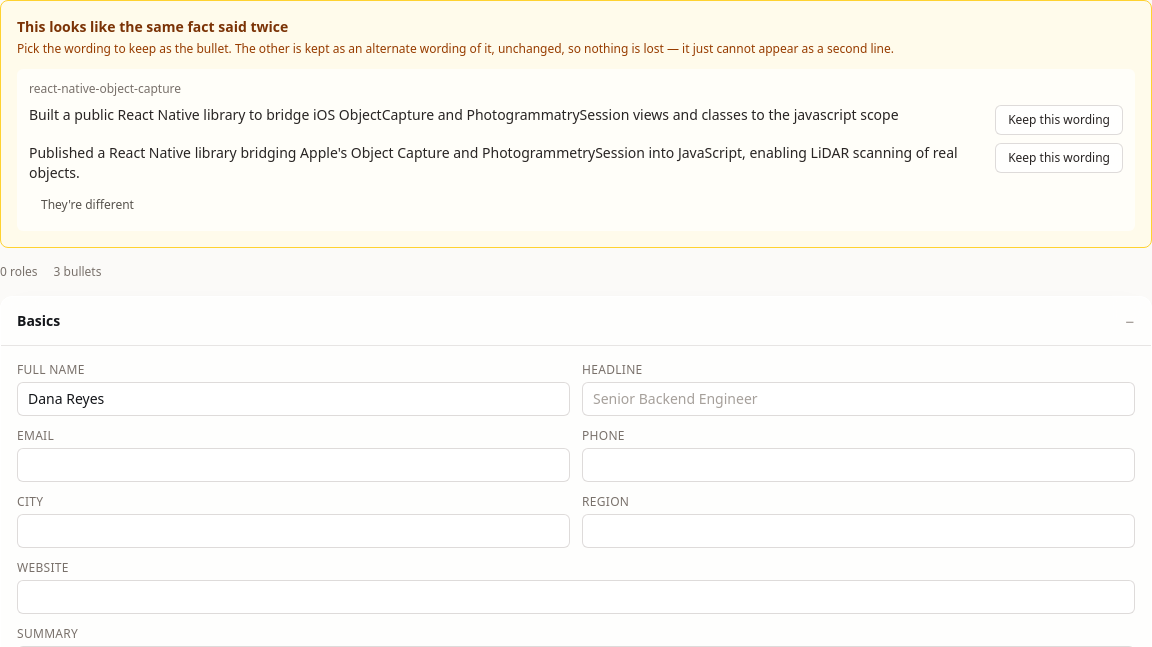
Test: a suspected repeat from the import › leaves both alone when told they are different
This screenshot has width=1152, height=647.
Click the button "They're different" at (87, 205), box [29,191,146,219]
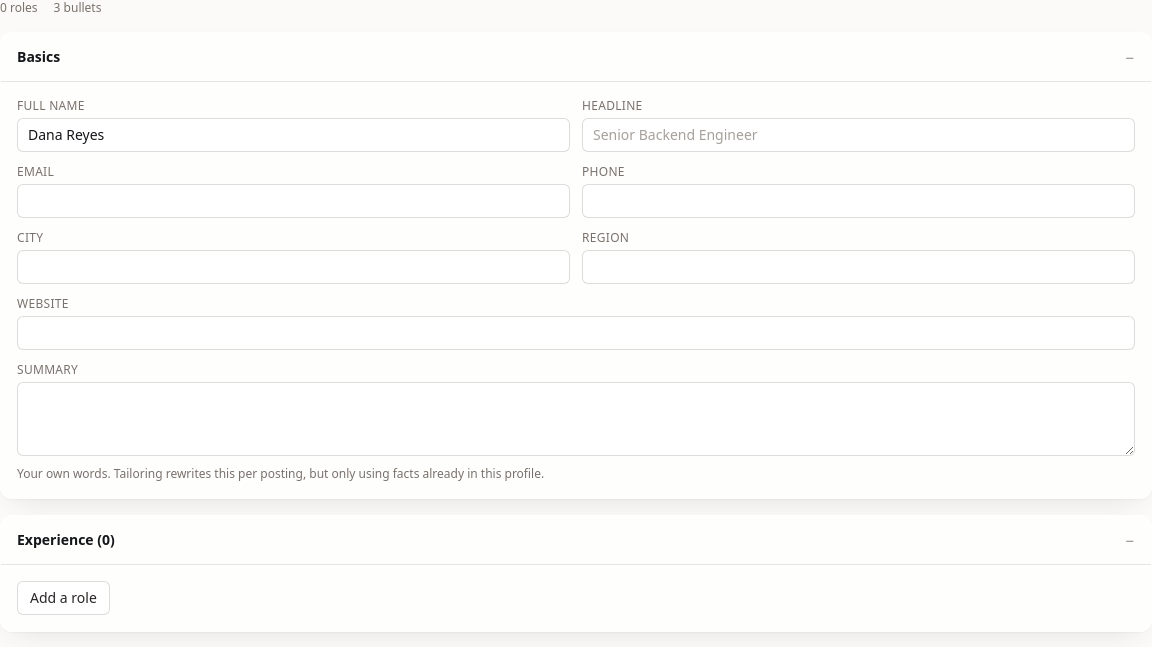
Check: the heading "the same fact said twice" is gone
